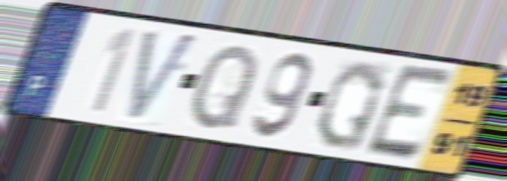1: (88, 26, 139, 117)
9: (250, 49, 313, 140)
E: (361, 61, 459, 164)
Q: (311, 57, 389, 154), (189, 41, 261, 133)
V: (124, 26, 203, 127)
